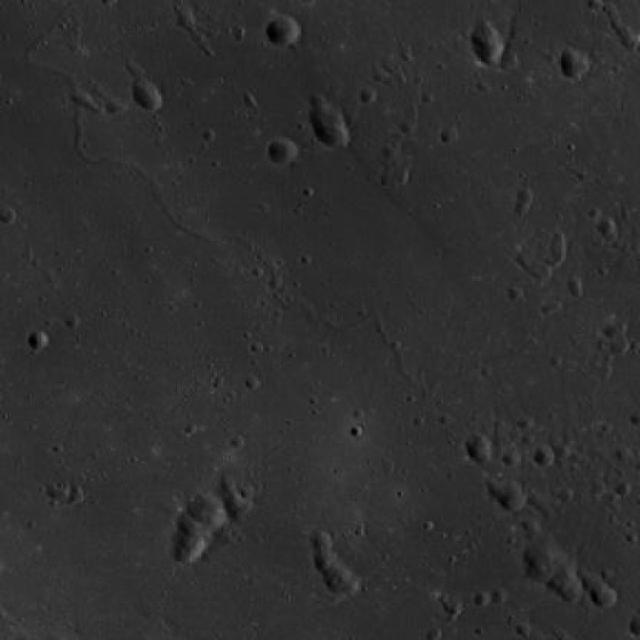crater: (519, 536, 564, 578), (186, 494, 228, 534), (547, 565, 581, 598), (268, 16, 301, 47), (312, 102, 345, 133), (497, 482, 528, 512), (177, 532, 208, 562), (319, 121, 350, 150), (559, 50, 590, 79), (270, 138, 299, 166), (474, 37, 502, 65), (472, 24, 500, 50), (466, 434, 492, 460), (326, 564, 352, 588), (134, 82, 160, 106), (336, 574, 362, 597), (594, 588, 618, 610), (534, 445, 557, 467), (178, 514, 200, 536), (140, 91, 163, 112), (28, 331, 49, 351), (313, 531, 333, 551), (316, 547, 336, 567), (224, 494, 244, 514), (173, 543, 193, 563), (584, 575, 604, 594), (611, 337, 631, 355), (499, 54, 518, 72), (598, 218, 616, 237), (0, 206, 18, 224), (528, 490, 546, 508), (522, 517, 541, 534), (230, 506, 248, 523), (443, 128, 460, 146), (504, 450, 521, 467), (73, 90, 90, 107), (179, 13, 196, 30), (569, 280, 586, 297), (544, 300, 561, 317), (558, 488, 576, 504), (490, 588, 508, 604), (488, 483, 506, 499), (134, 78, 152, 94), (474, 592, 491, 608), (474, 451, 491, 467), (312, 92, 328, 108), (362, 88, 378, 104), (516, 252, 532, 268), (538, 264, 554, 280), (382, 174, 398, 189)
